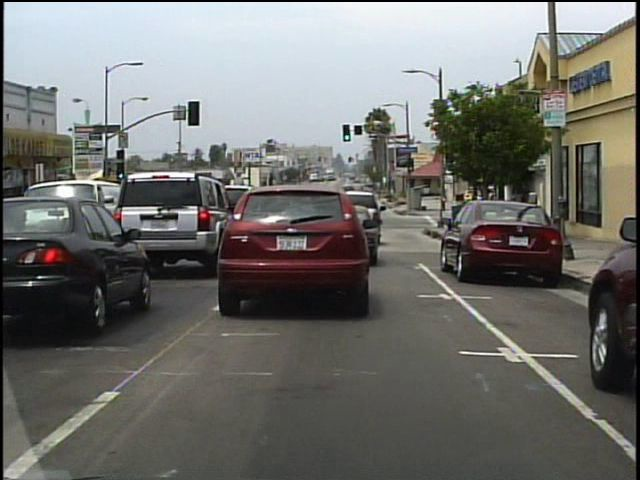person: (464, 194, 478, 240), (478, 195, 492, 240)
